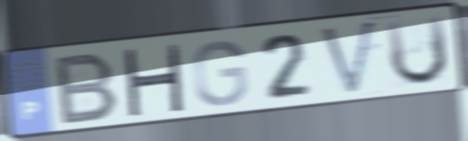2: (259, 32, 314, 101)
B: (53, 49, 121, 128)
G: (190, 38, 250, 109)
H: (120, 43, 186, 117)
U: (382, 12, 452, 89)
V: (317, 16, 380, 99)
